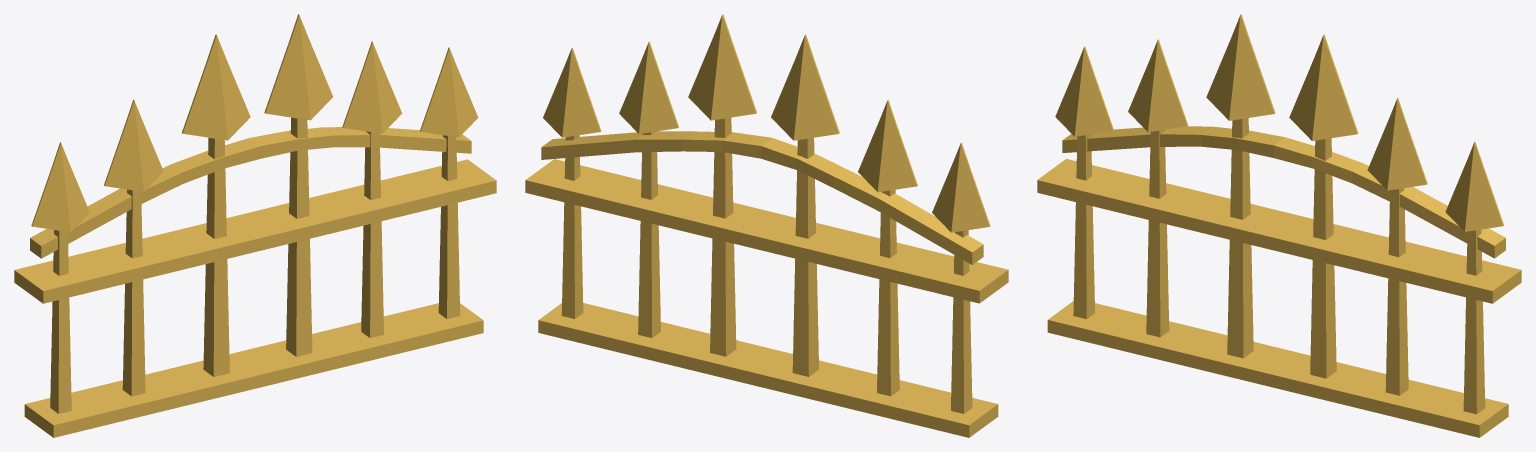
The model's file is gate.fbx.
3 renders of one model, left to right at view 1: azimuth 30°, elevation 25°; view 2: azimuth 150°, elevation 25°; view 3: azimuth 330°, elevation 25°, orthographic.
Parts seen in each view (by area): view 1: gate; view 2: gate; view 3: gate.
Boxes of the visible parts, x1,y1,x2,y2 form: gate: (14, 14, 496, 437); gate: (525, 14, 1008, 437); gate: (1037, 14, 1521, 437).
Bounding box in the file's own units: 122 × 91.76 × 13.45.
